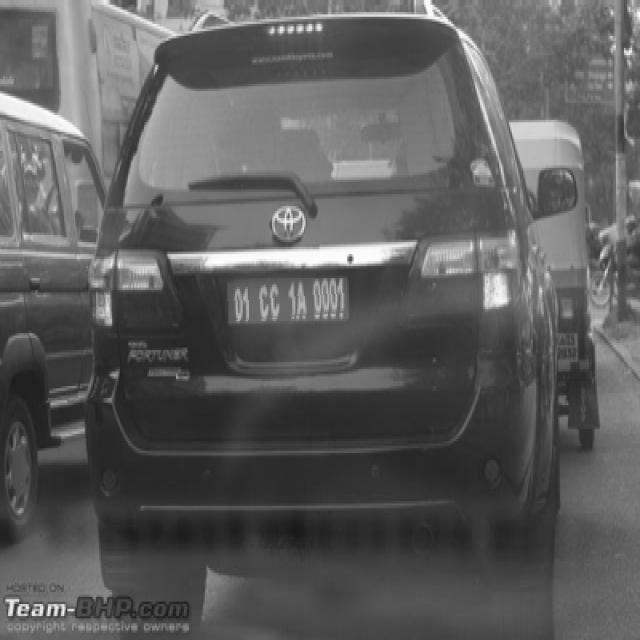licence: (226, 278, 347, 321)
